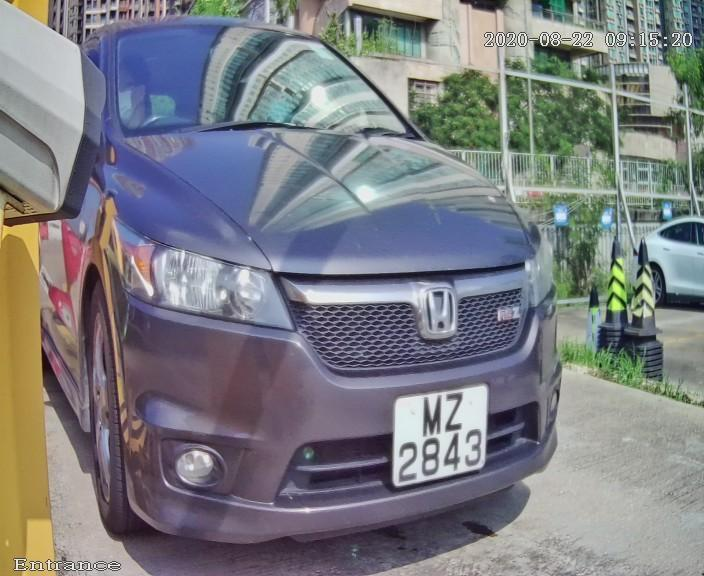Car: (19, 1, 617, 576)
License Plate: (384, 376, 494, 499)
